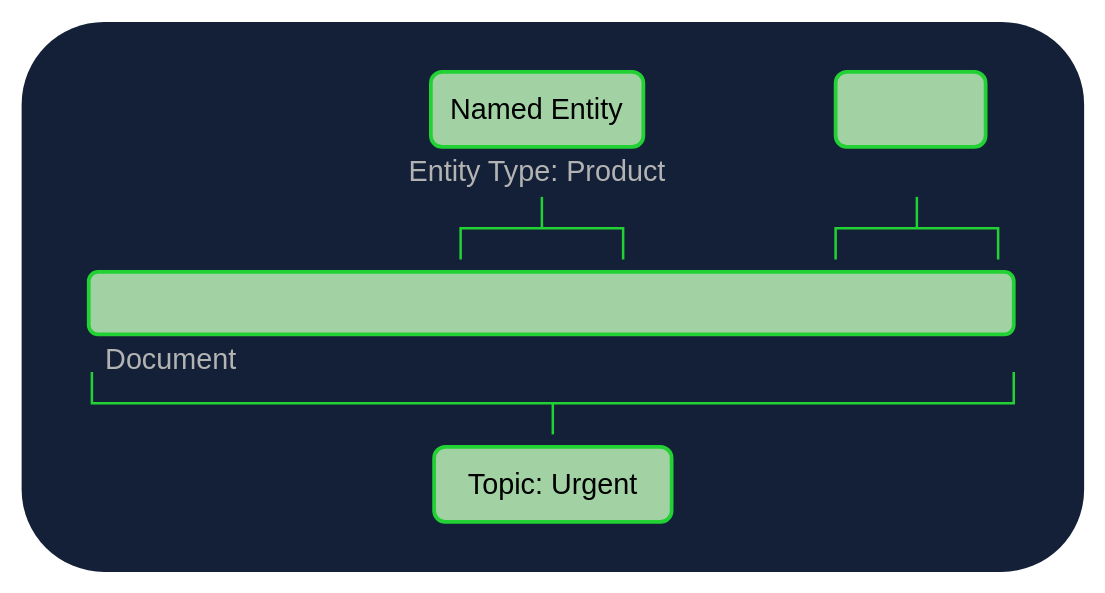
The diagram is 1105 pixels wide and 593 high, and some of its shapes have lost their labels. Here are the shapes that lost their labels. From the top down, the box of each, then its label:
(833, 69, 987, 148): Keyword
(86, 269, 1015, 336): I'm having an issue with the GoPro Hero. It's affecting my productivity.
